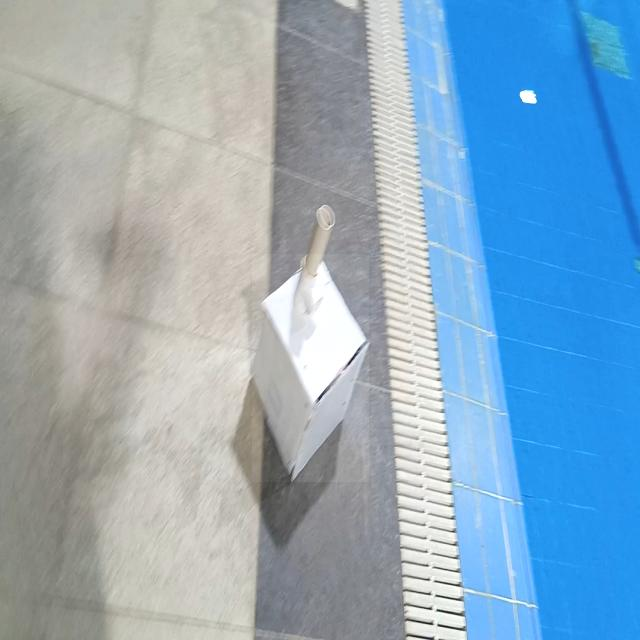Cube: (252, 254, 369, 482)
